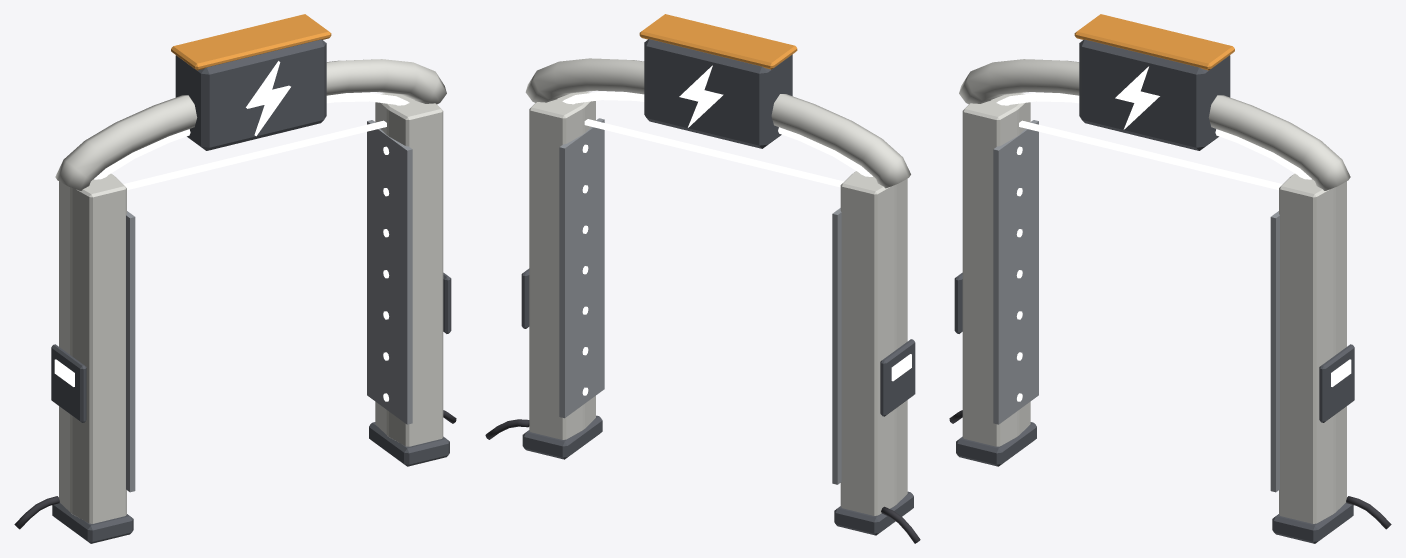
File: arch_supply.glb
3 views of the same model, side by side, from view 1: azimuth 30°, elevation 25°; view 2: azimuth 150°, elevation 25°; view 3: azimuth 330°, elevation 25° (orthographic).
Parts seen in each view (by area): view 1: arch_supply, scanbar; view 2: arch_supply, scanbar; view 3: arch_supply, scanbar.
Part boxes in pixels (x1,y1,x2,y2): arch_supply: (14, 14, 456, 543); scanbar: (123, 120, 386, 190); arch_supply: (485, 14, 920, 543); scanbar: (584, 119, 844, 187); arch_supply: (949, 14, 1391, 543); scanbar: (1019, 120, 1282, 190).
Size of the model in its own units: 4.04 by 3.93 by 0.64.
